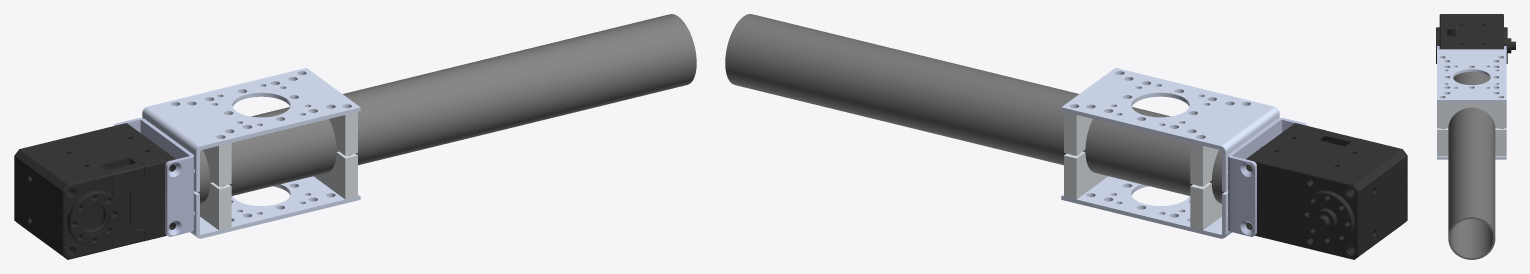
The model's file is front_arm_link3.dae.
The picture shows the model from 3 angles, left to right: view 1: azimuth 30°, elevation 25°; view 2: azimuth 150°, elevation 25°; view 3: azimuth 270°, elevation 25°; orthographic projection. The views are drawn at different scales.
Visible parts, largest first — view 1: node4, node1, node3, node0, node2; view 2: node4, node1, node3, node0, node2; view 3: node4, node3, node1, node0.
Part boxes in pixels (x1=…): node4: x1=197, y1=14, x2=696, y2=203; node1: x1=14, y1=123, x2=175, y2=259; node3: x1=142, y1=68, x2=360, y2=238; node0: x1=200, y1=112, x2=357, y2=230; node2: x1=114, y1=118, x2=193, y2=236; node4: x1=725, y1=14, x2=1224, y2=203; node1: x1=1246, y1=123, x2=1407, y2=259; node3: x1=1061, y1=67, x2=1279, y2=238; node0: x1=1064, y1=112, x2=1221, y2=230; node2: x1=1228, y1=118, x2=1307, y2=236; node4: x1=1448, y1=71, x2=1495, y2=259; node3: x1=1437, y1=49, x2=1506, y2=159; node1: x1=1436, y1=14, x2=1515, y2=63; node0: x1=1437, y1=102, x2=1506, y2=156.
Size of the model in its own units: 0.2532 by 0.0424 by 0.035.
